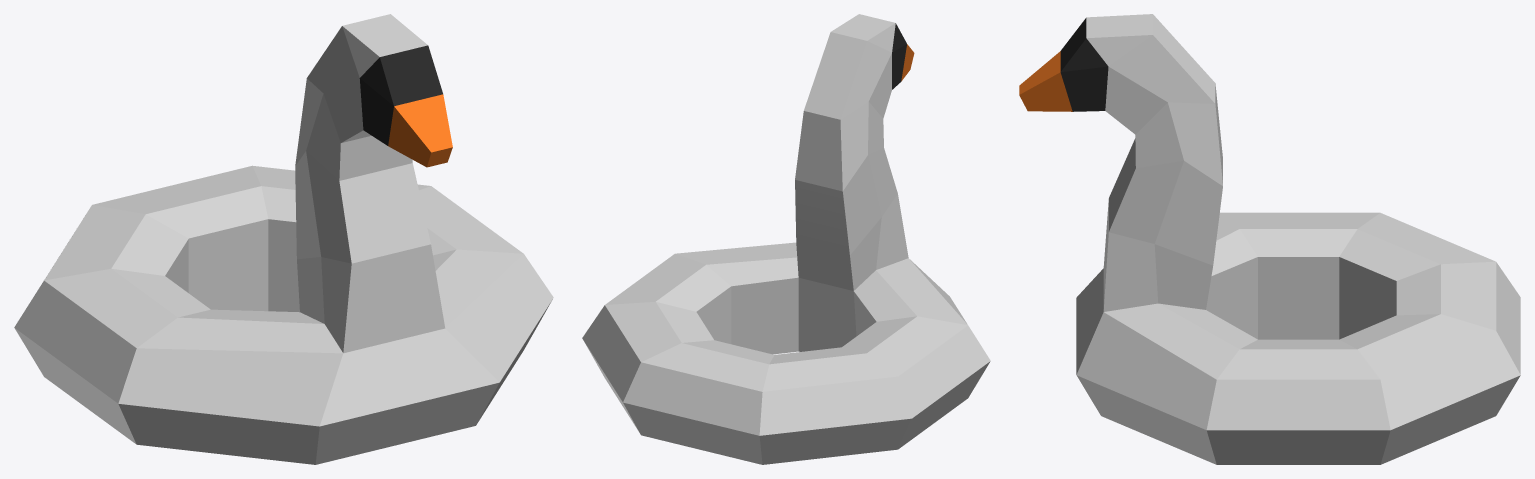
The model's file is beach_inflatable-swan-small.fbx.
3 renders of one model, left to right at view 1: azimuth 30°, elevation 25°; view 2: azimuth 150°, elevation 25°; view 3: azimuth 270°, elevation 25°, orthographic. The views are drawn at different scales.
Parts seen in each view (by area): view 1: beach_inflatable_swan_small; view 2: beach_inflatable_swan_small; view 3: beach_inflatable_swan_small.
Boxes of the visible parts, box(x1,y1,x2,y2) form: beach_inflatable_swan_small: box(14, 14, 553, 464); beach_inflatable_swan_small: box(582, 14, 990, 464); beach_inflatable_swan_small: box(1019, 14, 1520, 464).
Size of the model in its own units: 177 by 163 by 200.
